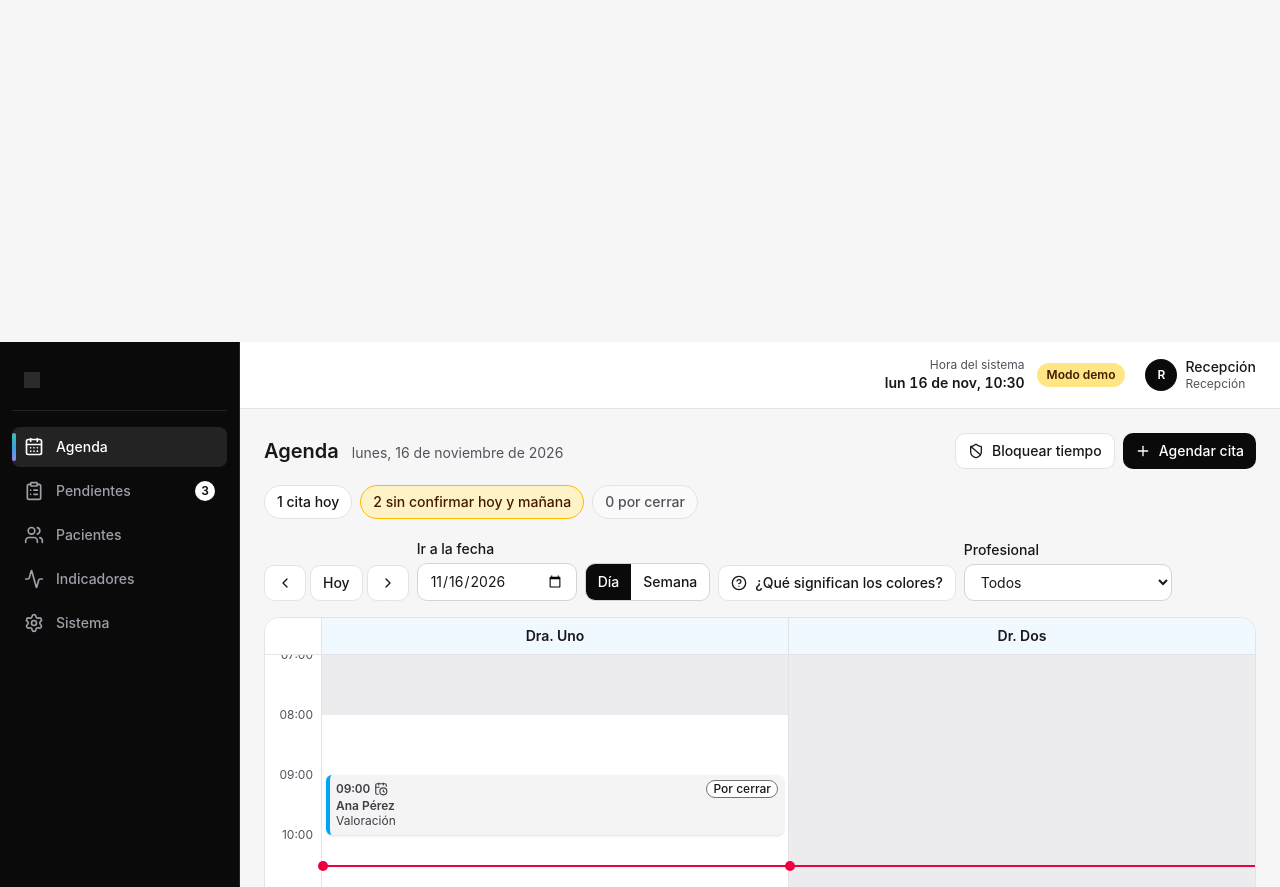
Test: bloqueos › la auxiliar puede abrir cada cita en conflicto
This screenshot has width=1280, height=887.
(page scrolled)
Click the button "Bloquear tiempo". click: (1035, 450)
box: [955, 432, 1115, 468]
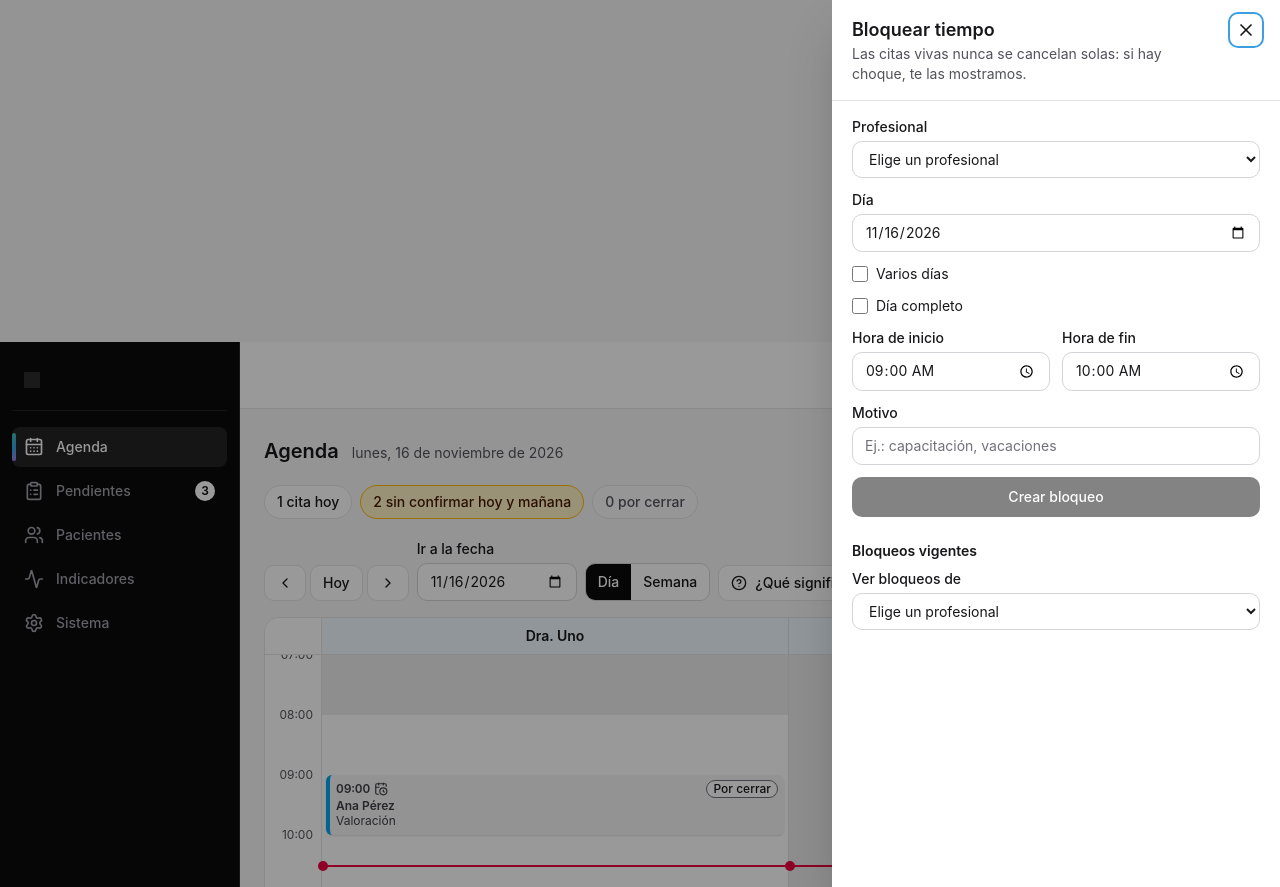
Select "Dra. Uno" in the dropdown labelled "Profesional". click: (1056, 160)
box: [852, 141, 1260, 178]
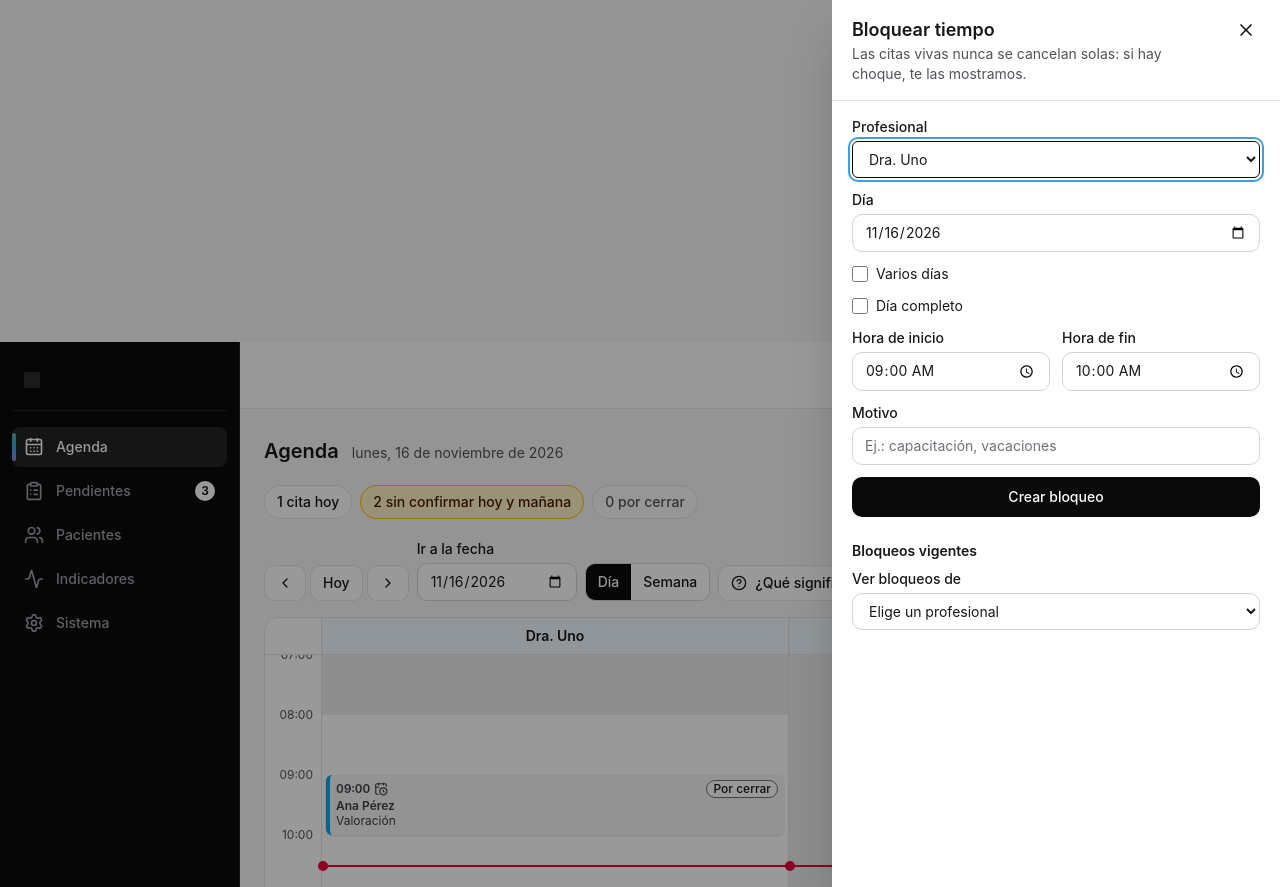
Click the button "Crear bloqueo". click: (1056, 497)
box: [852, 477, 1260, 517]
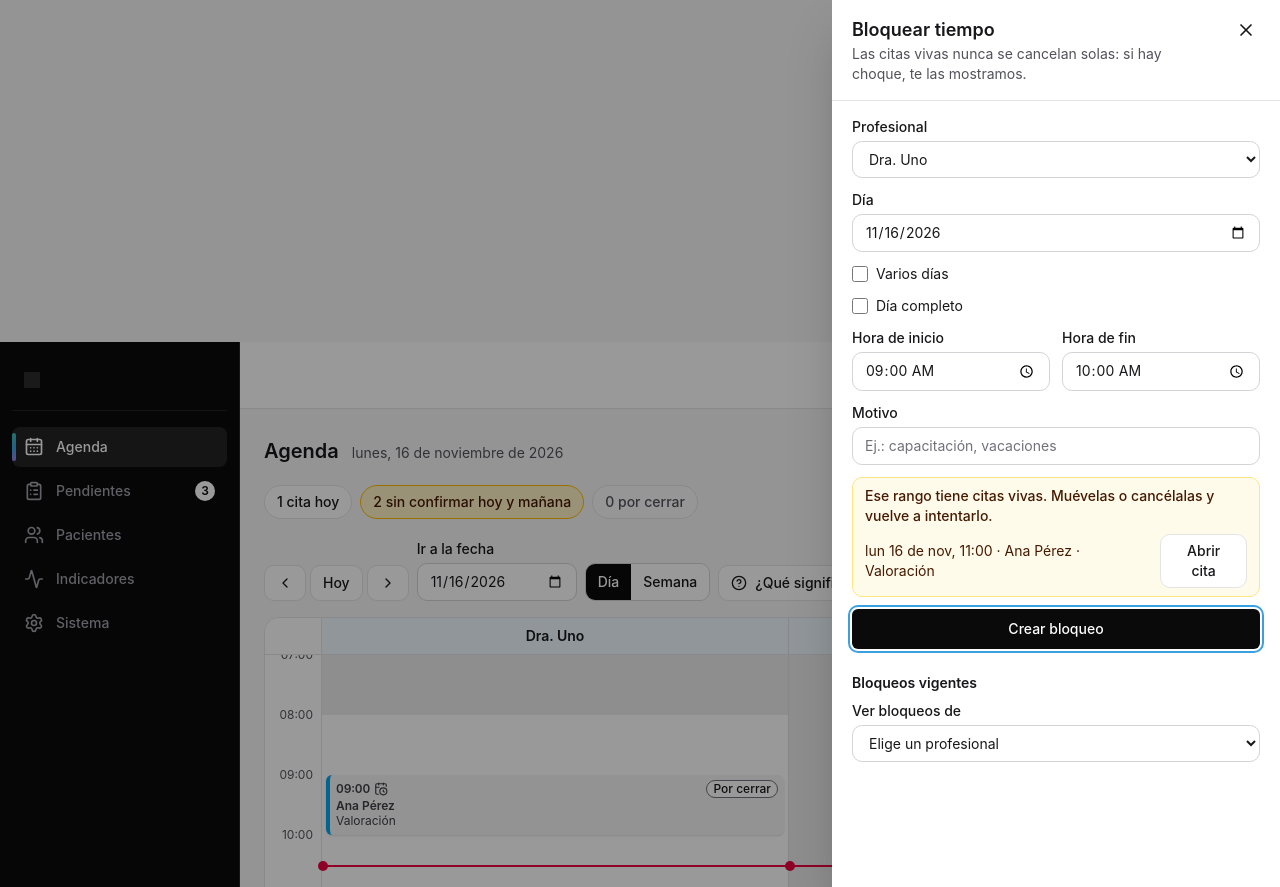
Click the button "Abrir cita". click: (1204, 561)
box: [1160, 534, 1247, 588]
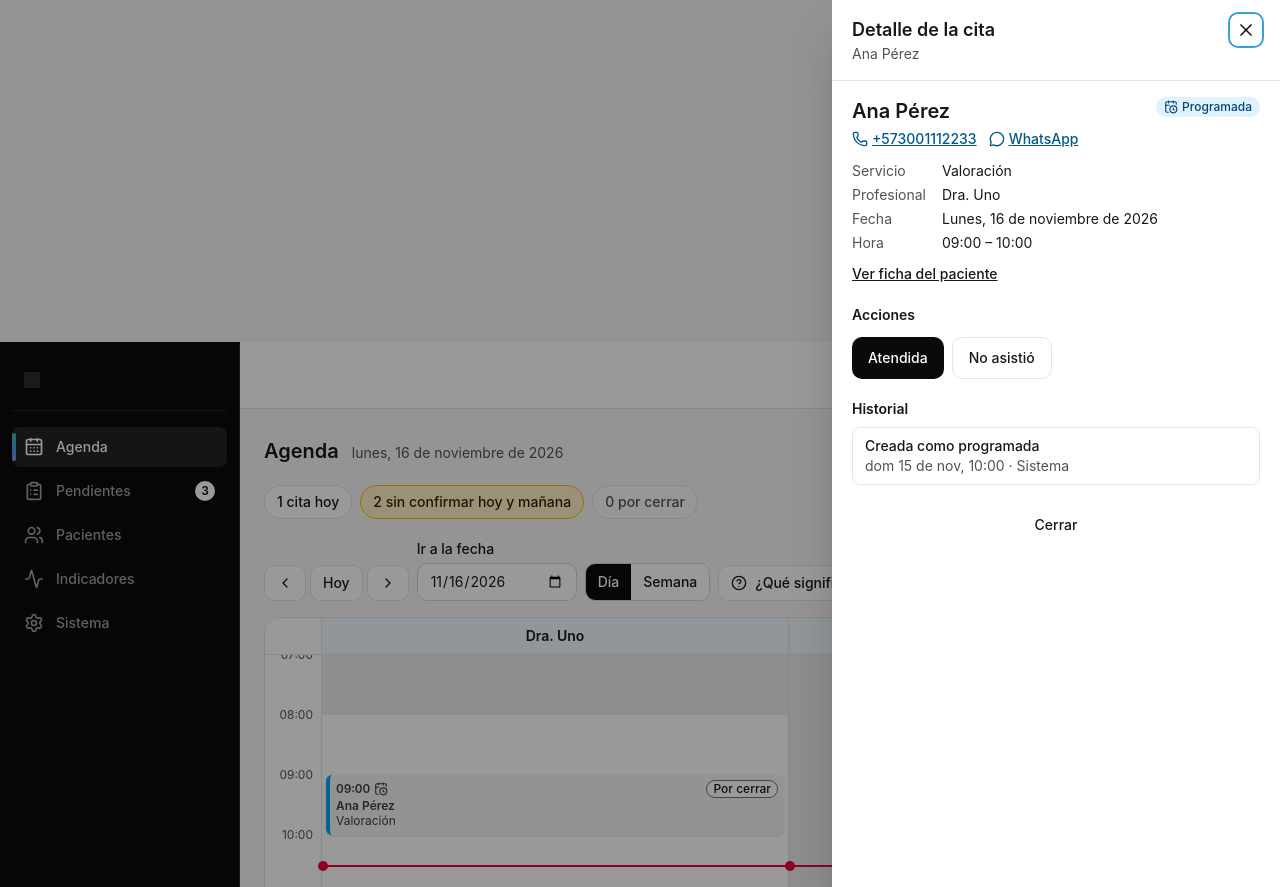
expect the heading "Detalle de la cita" is shown: met, box [852, 16, 995, 44]
